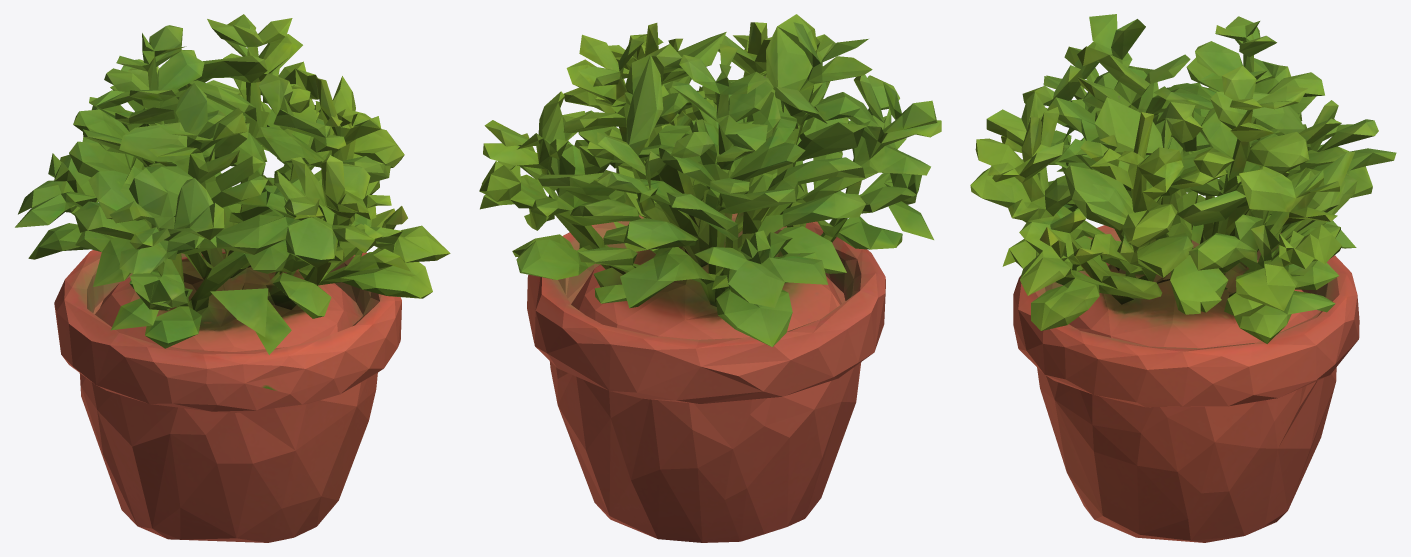
File: deco_succulent.glb
3 renders of one model, left to right at view 1: azimuth 30°, elevation 25°; view 2: azimuth 150°, elevation 25°; view 3: azimuth 270°, elevation 25°, orthographic. The views are drawn at different scales.
Visible parts, largest first — view 1: world; view 2: world; view 3: world.
Boxes of the visible parts, x1,y1,x2,y2 form: world: (15,14,450,542); world: (479,14,941,542); world: (970,14,1396,542).
Size of the model in its own units: 0.775 by 1 by 0.846.
1 material, 1 textured.
